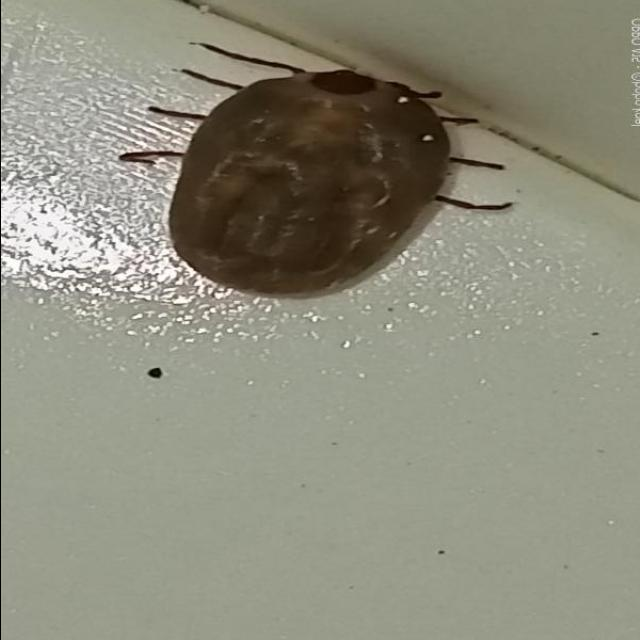Rhipicephalus Sanguineus-F-Fed: (117, 42, 514, 299)
